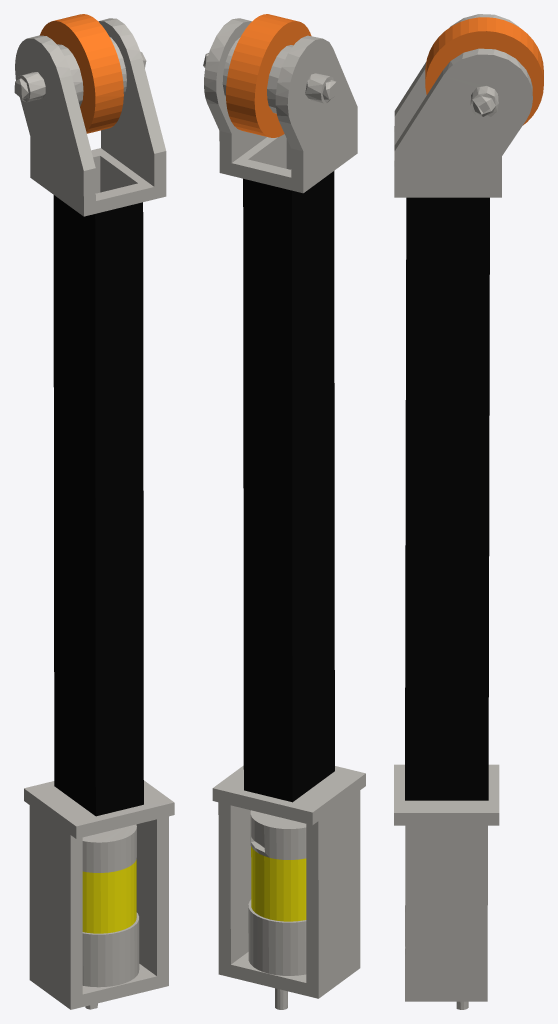
File: codo.obj
3 renders of one model, left to right at view 1: azimuth 30°, elevation 25°; view 2: azimuth 150°, elevation 25°; view 3: azimuth 270°, elevation 25°, orthographic.
Visible parts, largest first — view 1: Object.1; view 2: Object.1; view 3: Object.1.
Boxes of the visible parts, left/top/right/bottom form: Object.1: left=14, top=14, right=174, bottom=1009; Object.1: left=203, top=14, right=365, bottom=1009; Object.1: left=394, top=14, right=543, bottom=1009.
Size of the model in its own units: 66 by 494 by 68.27.
